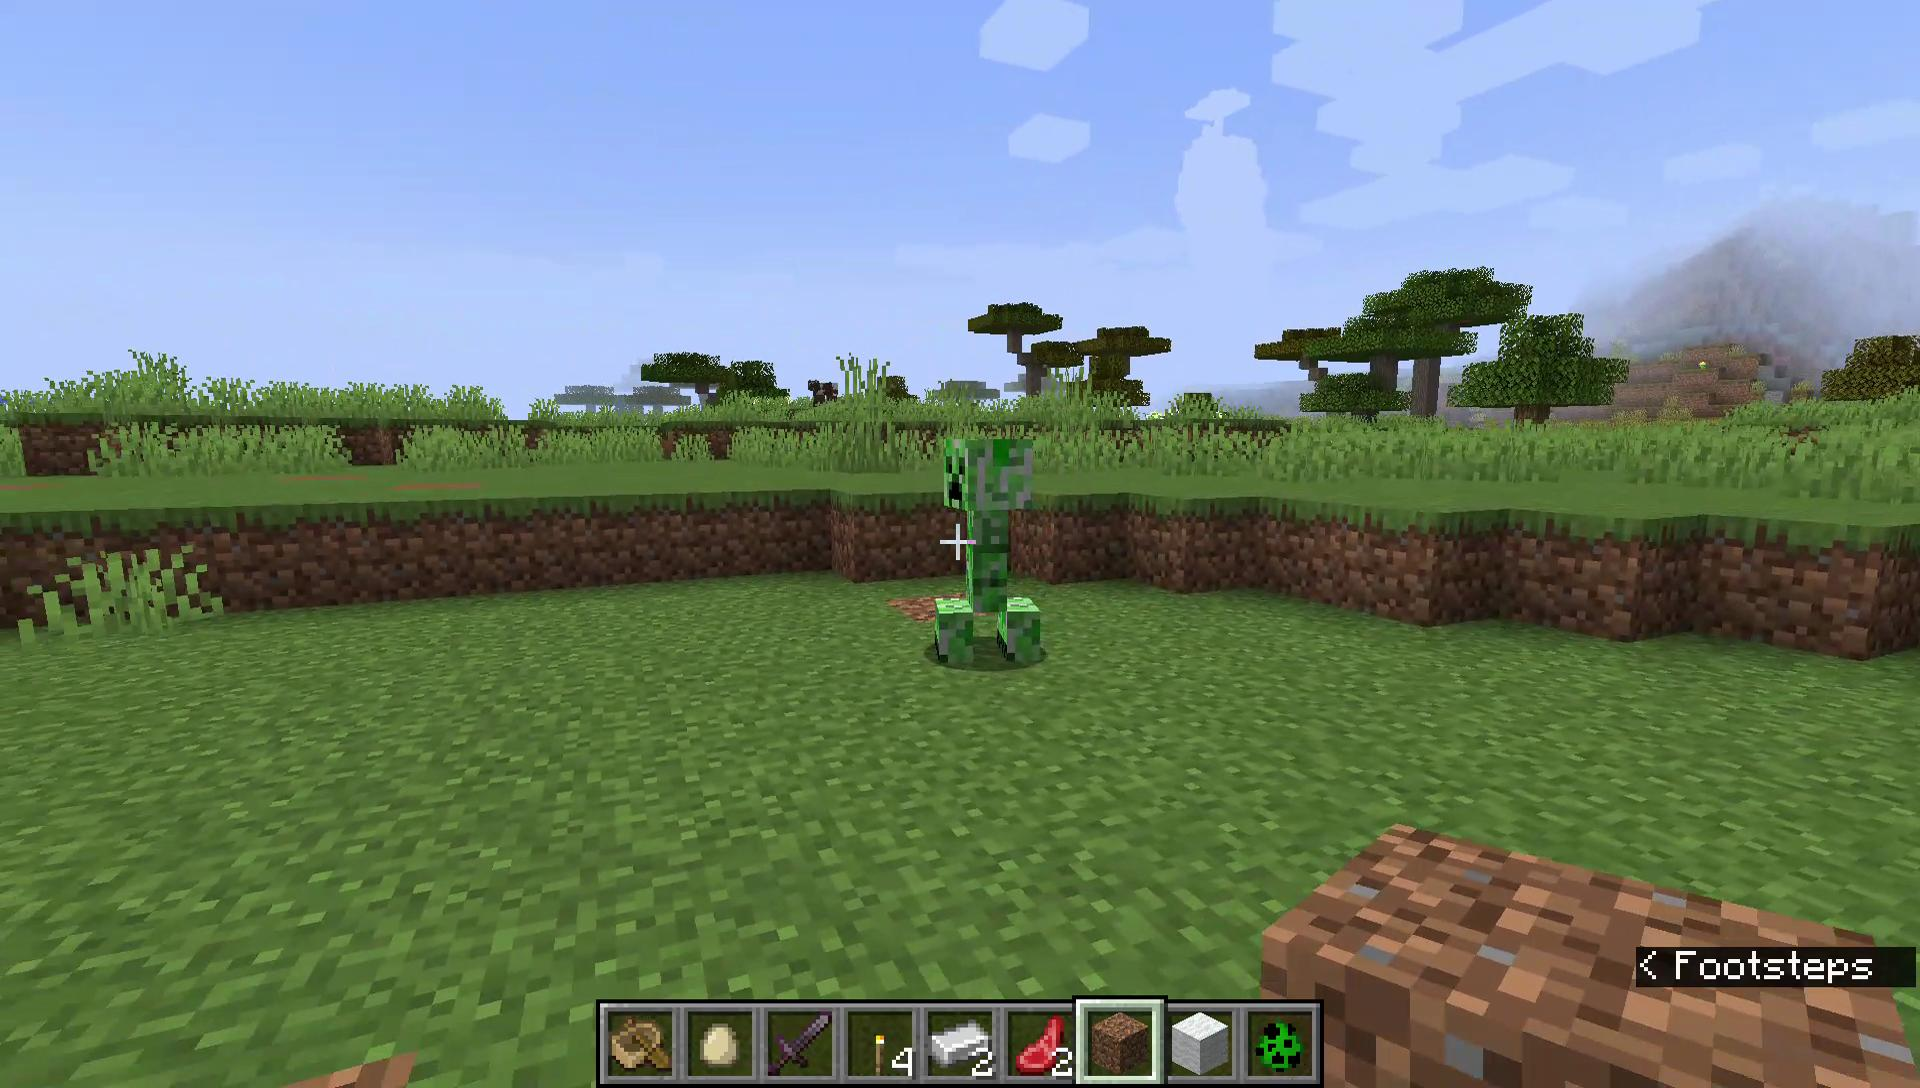creeper: (928, 433, 1047, 673)
